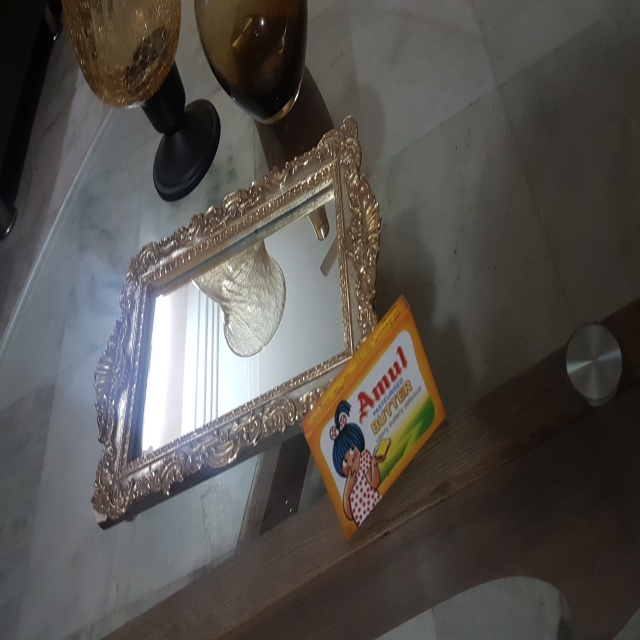butter: (304, 296, 445, 544)
